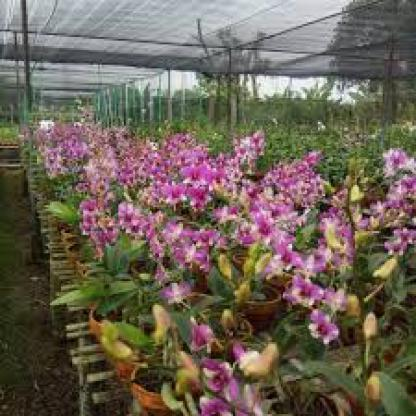ANGGREK: (21, 84, 406, 408)
